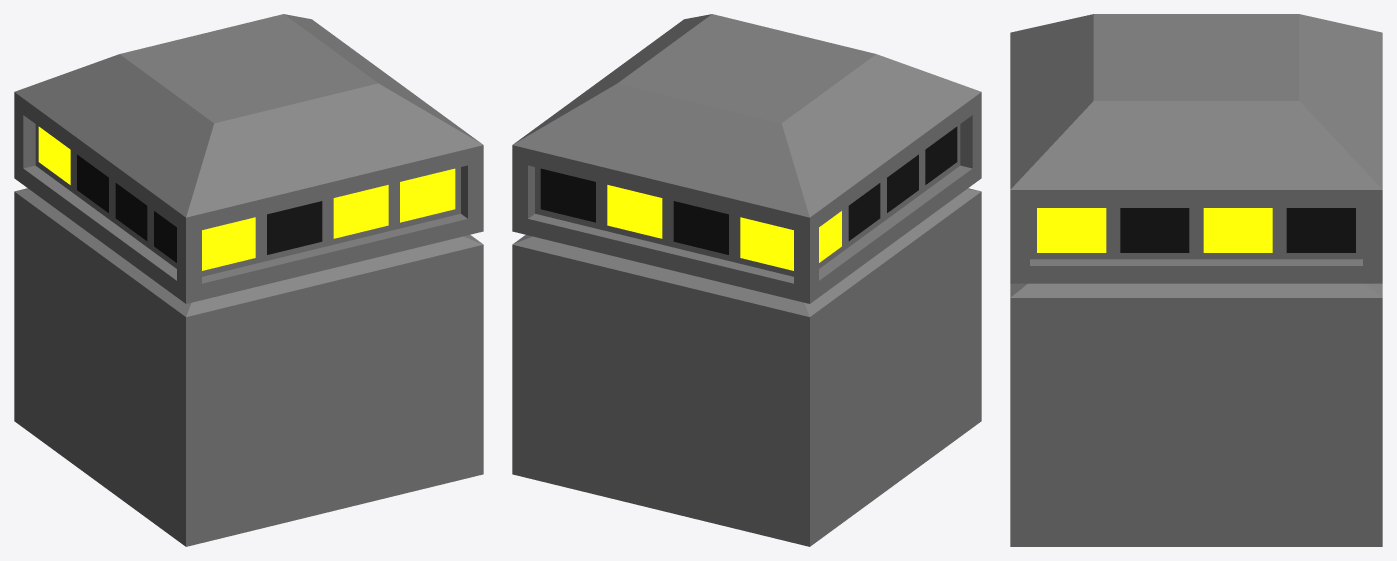
File: s0_room_0_ceiling_variation_2.fbx
3 views of the same model, side by side, from view 1: azimuth 30°, elevation 25°; view 2: azimuth 150°, elevation 25°; view 3: azimuth 270°, elevation 25° (orthographic). The views are drawn at different scales.
Visible parts, largest first — view 1: CorridorCeilingVariation2; view 2: CorridorCeilingVariation2; view 3: CorridorCeilingVariation2.
Boxes of the visible parts, x1,y1,x2,y2 form: CorridorCeilingVariation2: (14,14,483,546); CorridorCeilingVariation2: (512,14,981,546); CorridorCeilingVariation2: (1010,14,1382,546).
Size of the model in its own units: 1005 by 1223 by 1005.
